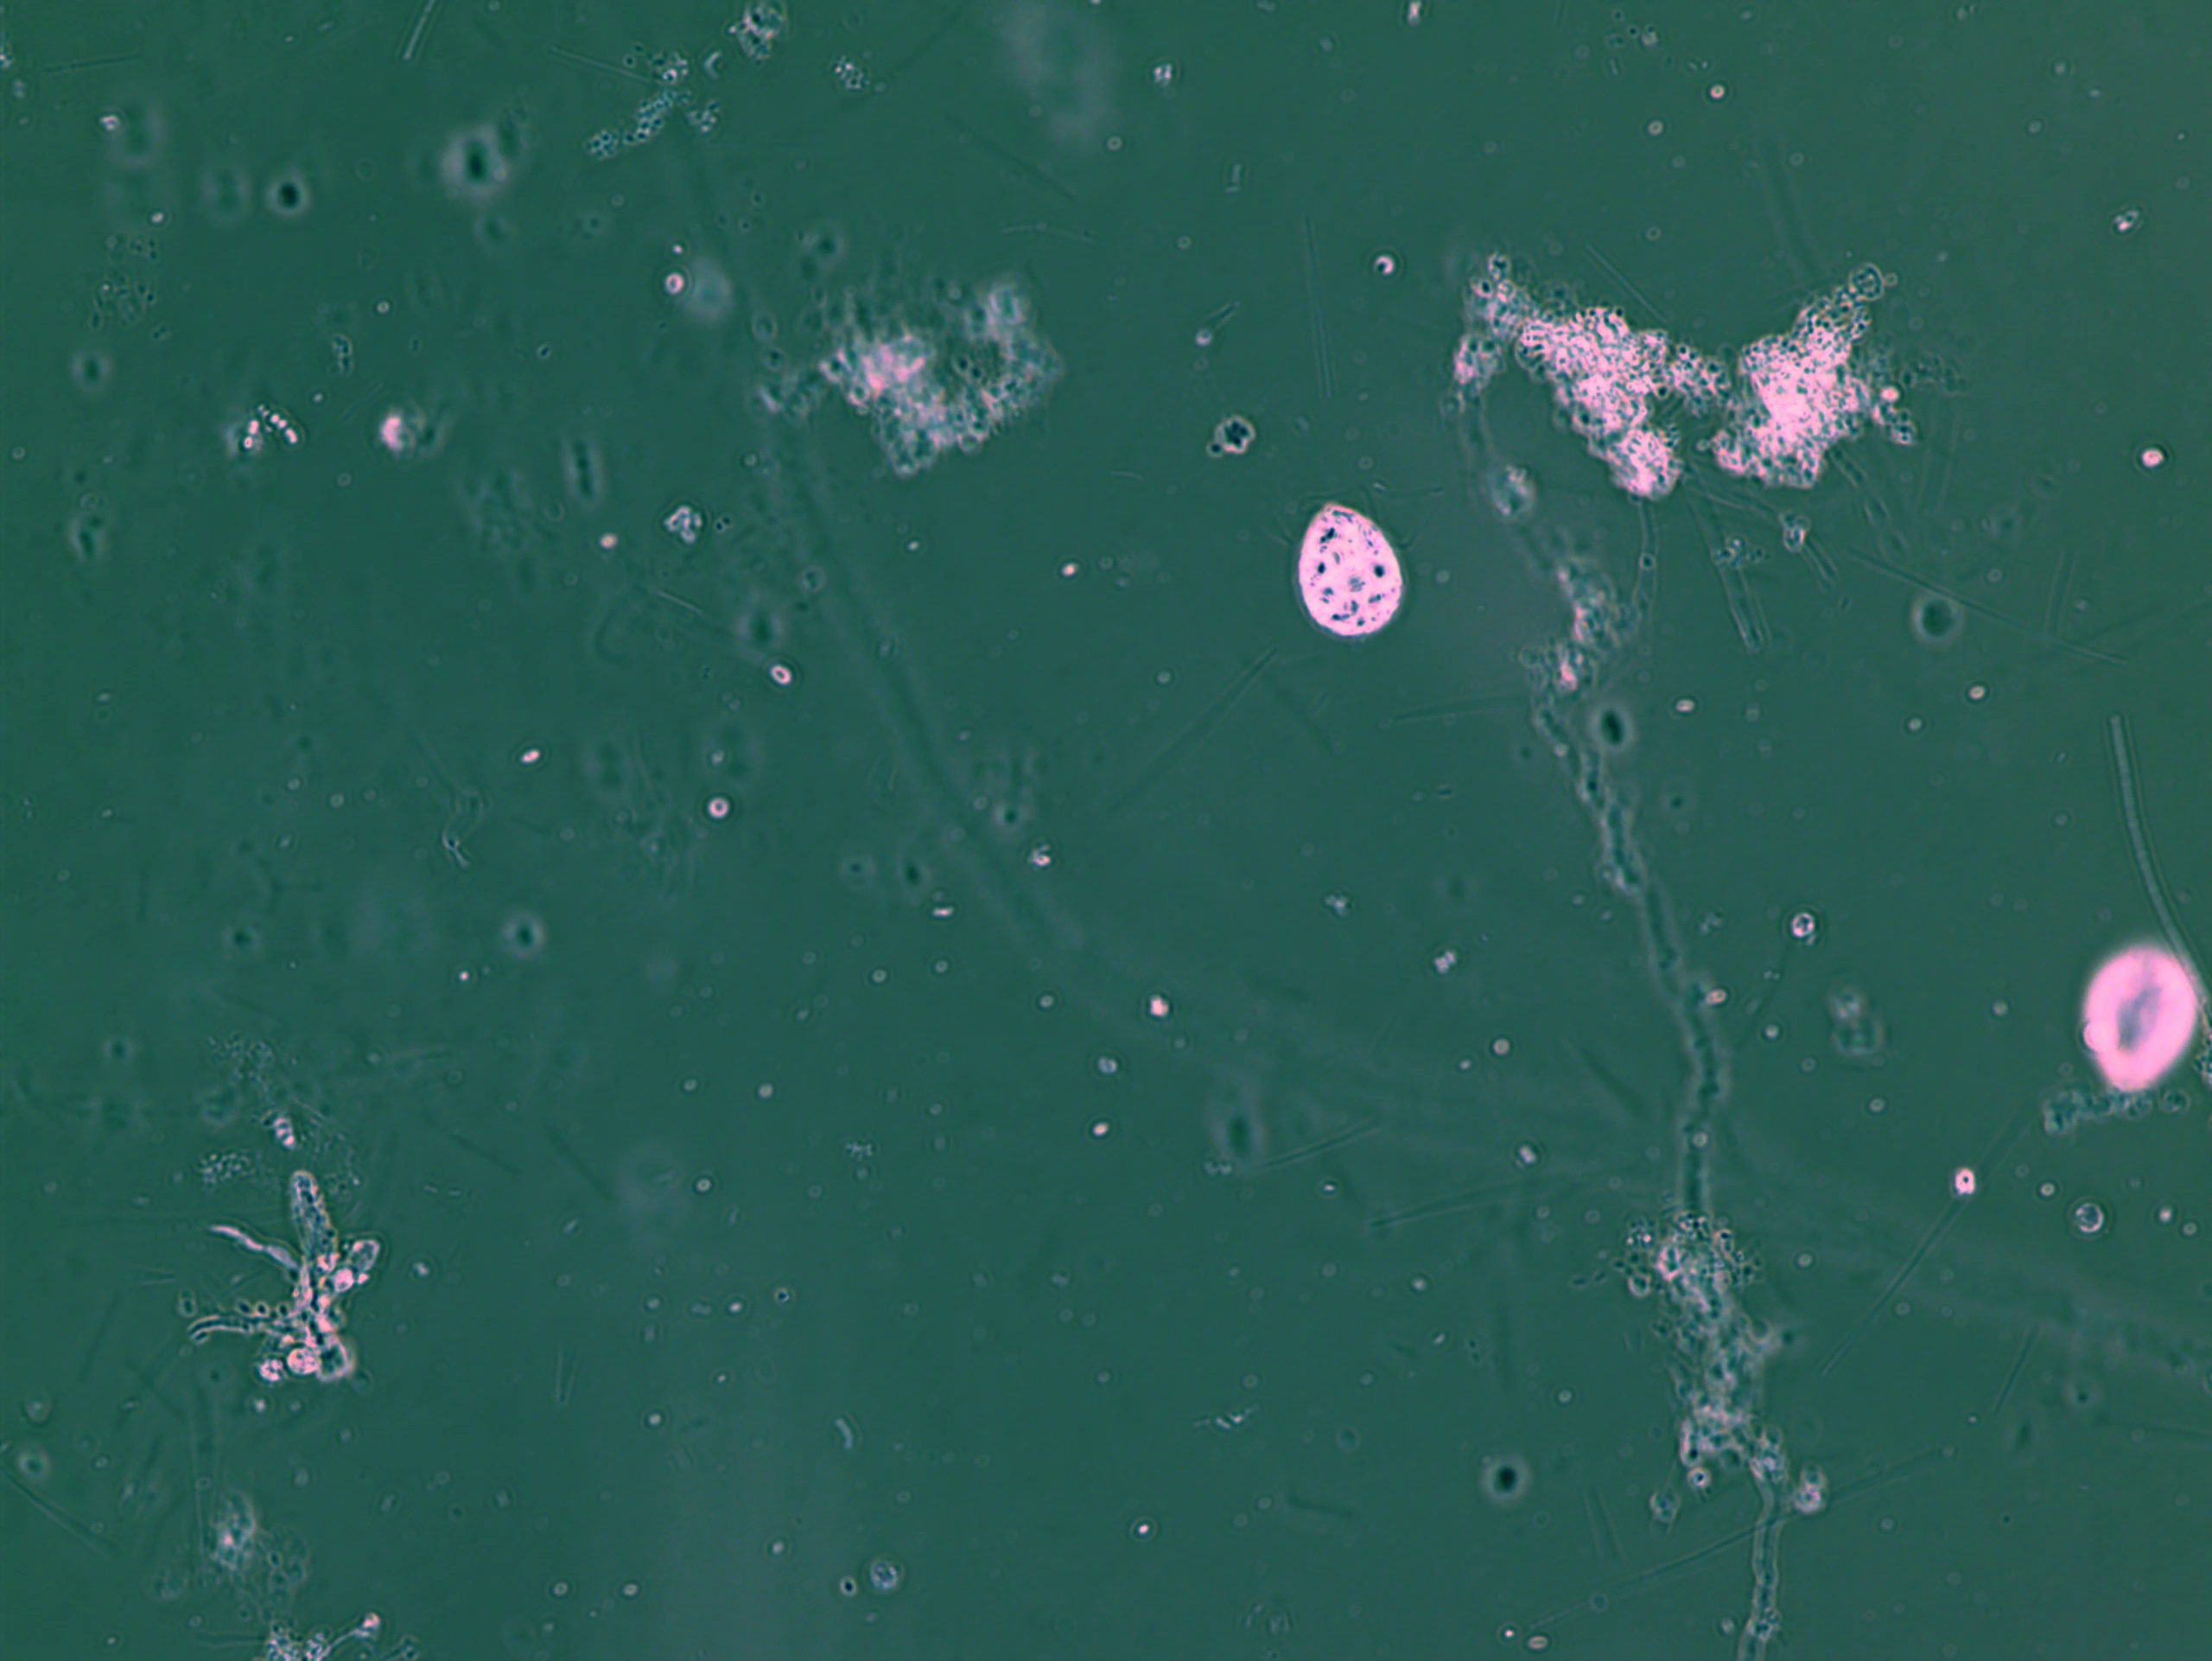depth:0: (1275, 492, 1446, 658)
